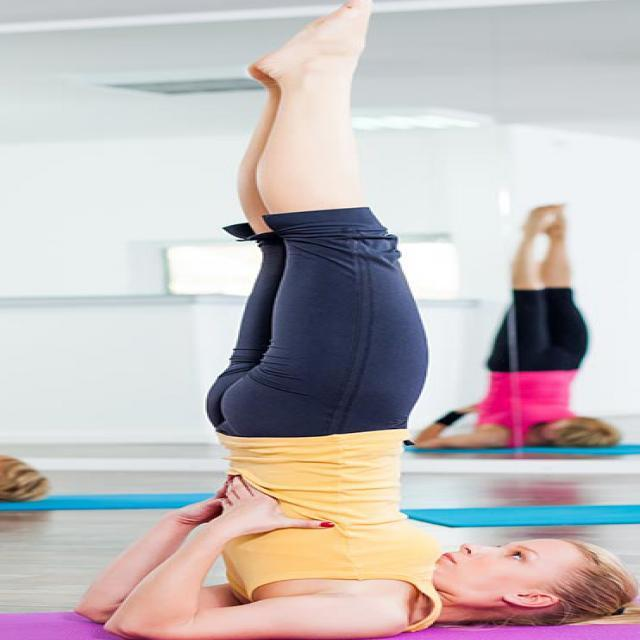yoga-pose shoulderstand: (85, 5, 609, 638), (411, 170, 638, 455)
